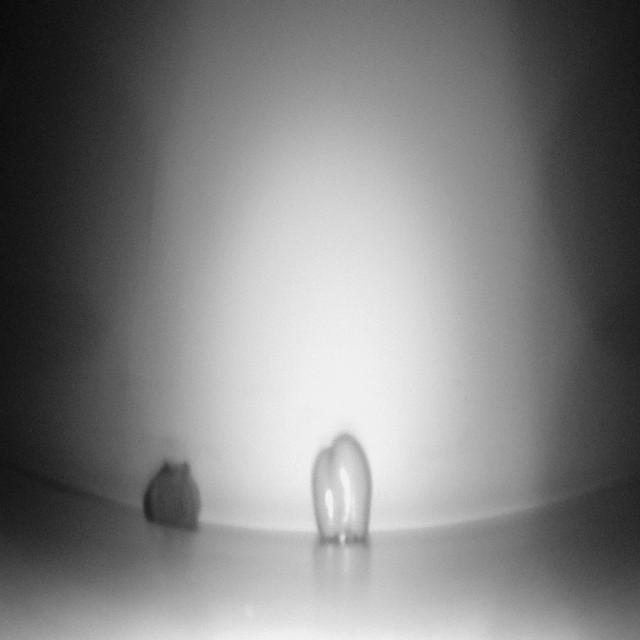targets: (314, 436, 372, 546), (142, 459, 202, 535)
